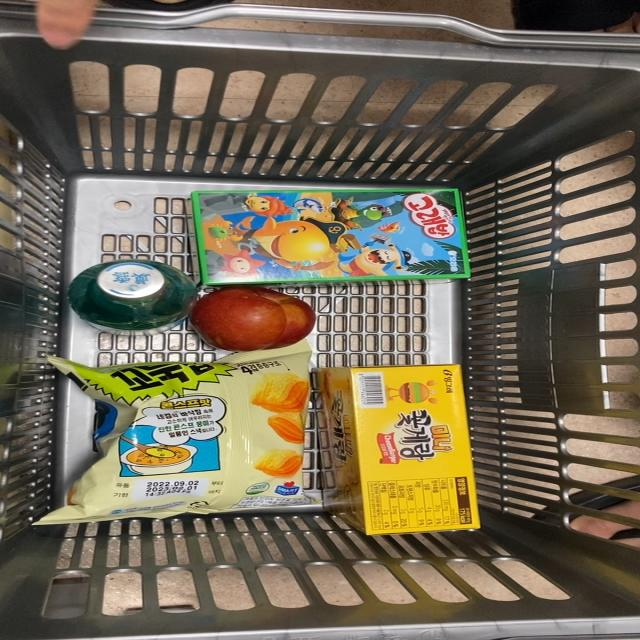ggobukchip: (47, 355, 335, 527)
goraebob: (172, 181, 495, 286)
jinro: (70, 254, 183, 331)
minicrab: (314, 360, 512, 547)
plum: (183, 286, 332, 352)
